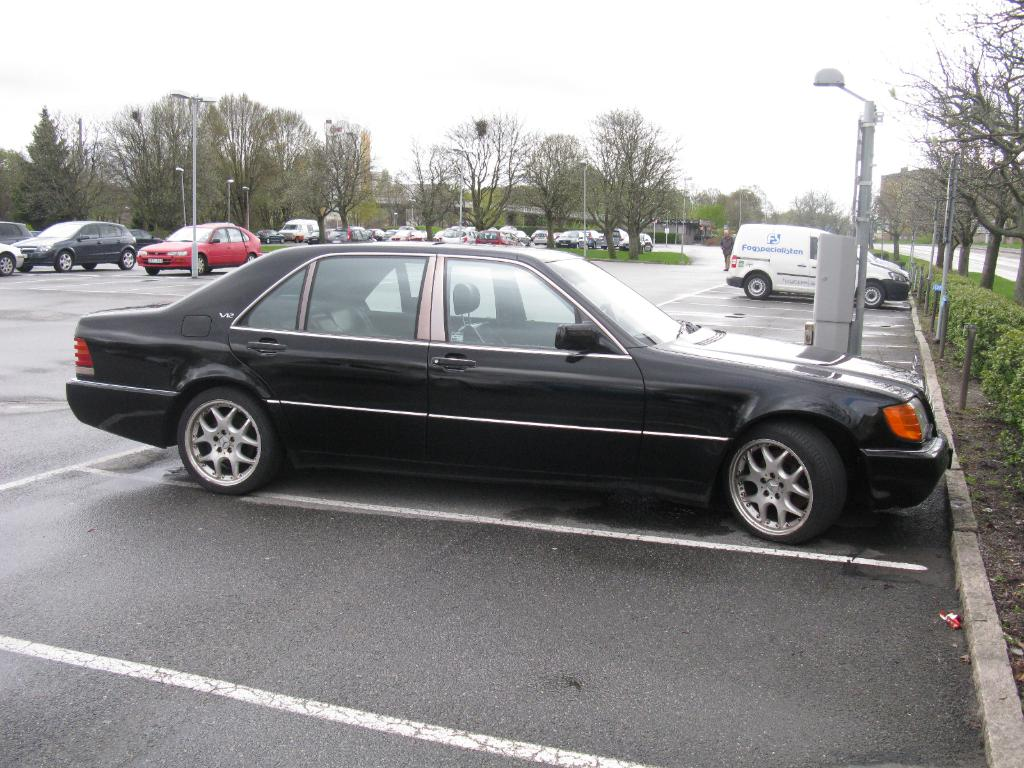Car: (0, 214, 954, 545)
